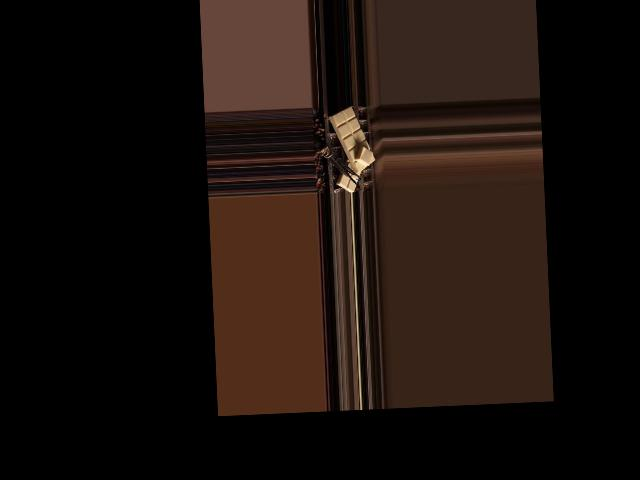chocolate: (329, 106, 375, 175)
